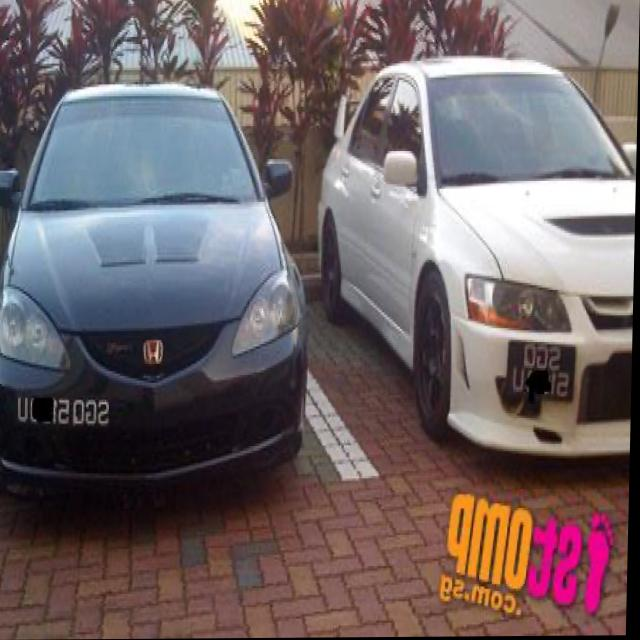licence: (16, 393, 121, 431)
